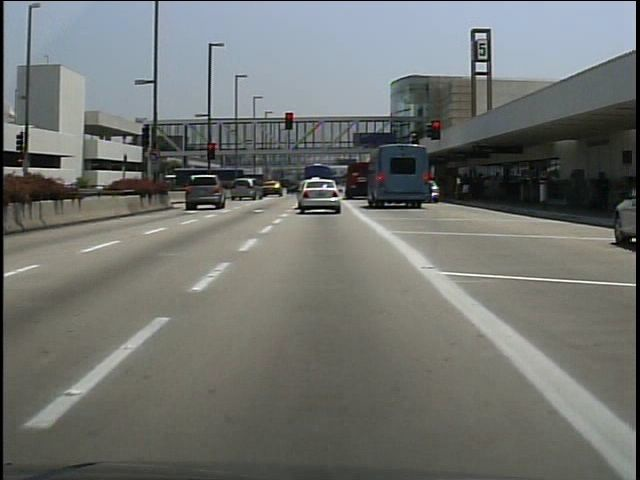person: (592, 167, 612, 221)
